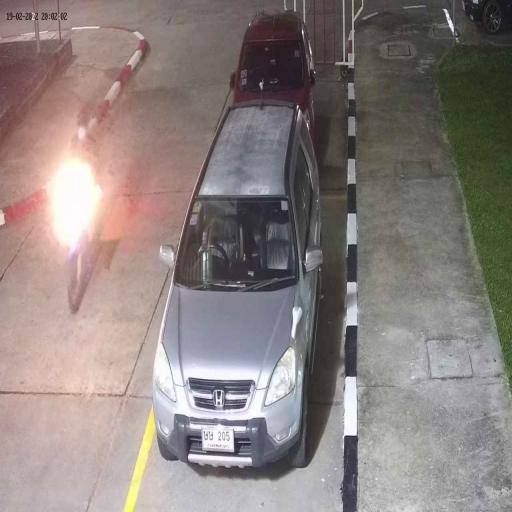car: (150, 102, 322, 473), (230, 10, 316, 112)
motorcycle: (64, 214, 108, 318)
